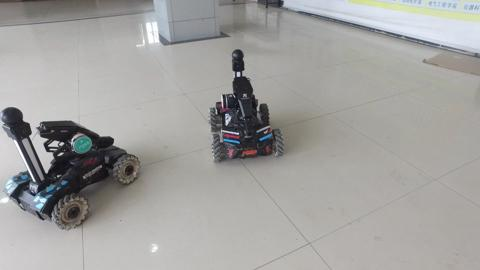Copy of chariot: (200, 47, 288, 168)
chariot: (1, 97, 142, 228)
